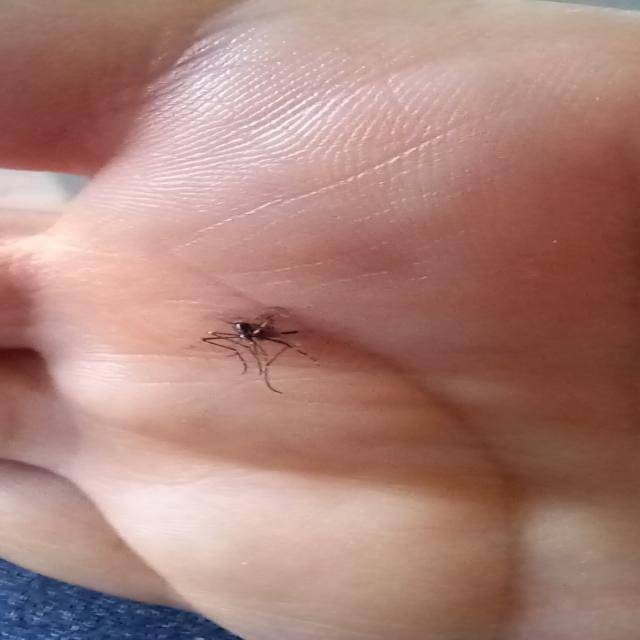albopictus: (195, 310, 321, 393)
